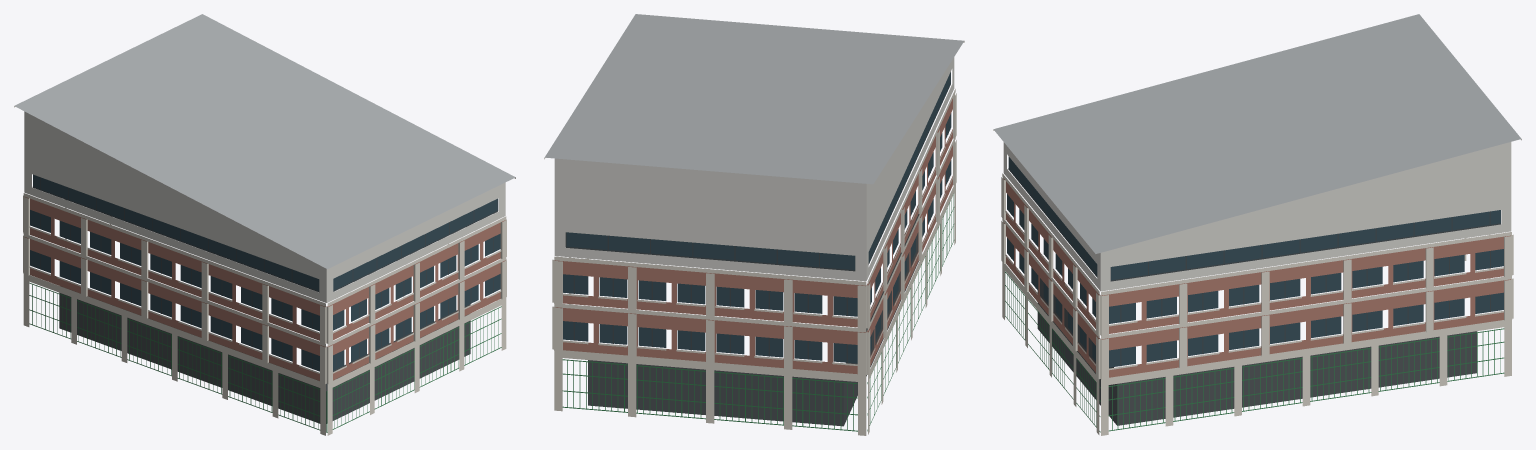
3 renders of one model, left to right at view 1: azimuth 30°, elevation 25°; view 2: azimuth 150°, elevation 25°; view 3: azimuth 270°, elevation 25°, orthographic. The views are drawn at different scales.
Parts seen in each view (by area): view 1: wing2__roof-metal, wing2__panel-plaster, wing2__trim-concrete, wing2__brick, wing2__glass, wing2__pilotis-dark, wing2__mesh-green-net, wing2__frame; view 2: wing2__roof-metal, wing2__panel-plaster, wing2__trim-concrete, wing2__brick, wing2__glass, wing2__pilotis-dark, wing2__mesh-green-net, wing2__frame; view 3: wing2__roof-metal, wing2__panel-plaster, wing2__brick, wing2__trim-concrete, wing2__glass, wing2__pilotis-dark, wing2__mesh-green-net, wing2__frame.
Part boxes in pixels (bbox=[...]): wing2__roof-metal: bbox=[14, 14, 515, 269]; wing2__panel-plaster: bbox=[24, 111, 505, 302]; wing2__trim-concrete: bbox=[14, 106, 515, 435]; wing2__brick: bbox=[24, 196, 505, 380]; wing2__glass: bbox=[30, 174, 500, 371]; wing2__pilotis-dark: bbox=[59, 286, 470, 423]; wing2__mesh-green-net: bbox=[29, 282, 501, 432]; wing2__frame: bbox=[32, 177, 498, 369]; wing2__roof-metal: bbox=[544, 14, 964, 184]; wing2__panel-plaster: bbox=[554, 57, 954, 281]; wing2__trim-concrete: bbox=[544, 41, 964, 435]; wing2__brick: bbox=[554, 98, 952, 374]; wing2__glass: bbox=[563, 72, 951, 363]; wing2__pilotis-dark: bbox=[588, 206, 919, 426]; wing2__mesh-green-net: bbox=[562, 194, 954, 431]; wing2__frame: bbox=[565, 72, 950, 362]; wing2__roof-metal: bbox=[993, 14, 1521, 253]; wing2__panel-plaster: bbox=[1003, 142, 1511, 291]; wing2__brick: bbox=[1003, 178, 1510, 377]; wing2__trim-concrete: bbox=[993, 130, 1521, 435]; wing2__glass: bbox=[1007, 156, 1503, 367]; wing2__pilotis-dark: bbox=[1037, 278, 1477, 425]; wing2__mesh-green-net: bbox=[1005, 271, 1504, 432]; wing2__frame: bbox=[1008, 168, 1500, 366].
Size of the model in its own units: 33.09 by 20.04 by 39.44.
